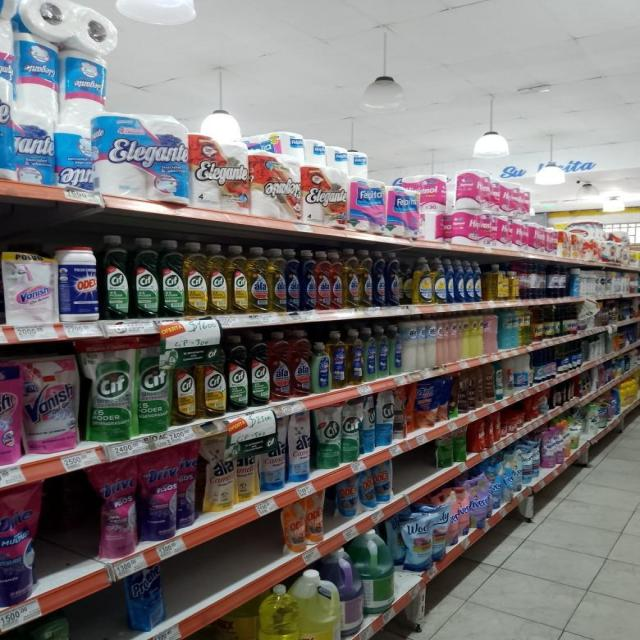ala_conc_amarillo: (248, 246, 267, 314), (268, 248, 286, 312), (344, 248, 359, 308), (360, 250, 372, 308)
ala_conc_azul: (286, 248, 300, 312), (301, 250, 315, 312), (387, 251, 402, 307), (374, 250, 386, 308)
ala_conc_rojo: (270, 330, 290, 402), (291, 329, 310, 398), (316, 250, 330, 310), (331, 249, 343, 310)
cif_conc_bot_amarilla: (198, 340, 226, 418), (173, 341, 196, 424), (184, 242, 207, 316), (208, 243, 227, 315), (228, 244, 247, 314)
cif_conc_botella_verde: (101, 234, 130, 320), (132, 236, 158, 318), (160, 240, 184, 317), (228, 334, 248, 411), (250, 332, 269, 406)
cif_conc_sachet_verde: (86, 337, 136, 441), (137, 336, 172, 434)
magistral_con_amarillo: (413, 256, 432, 304), (433, 257, 446, 304)
